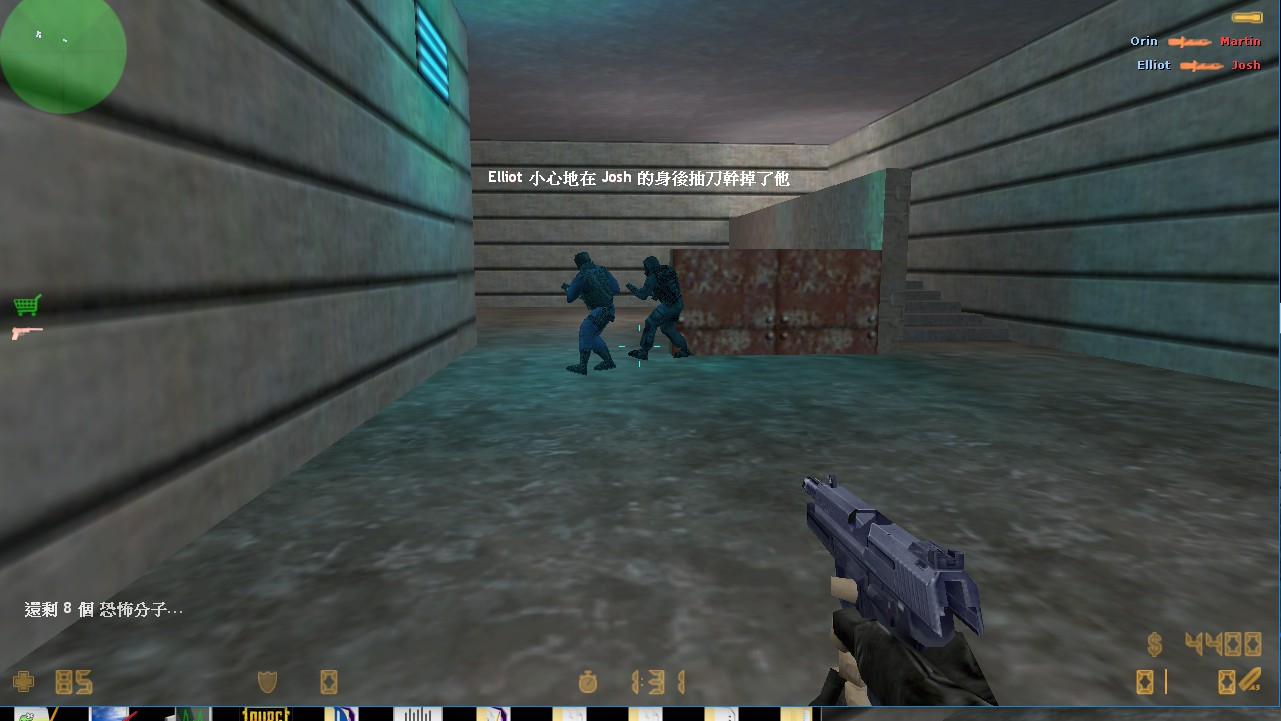person: (558, 249, 618, 376), (639, 250, 696, 368)
